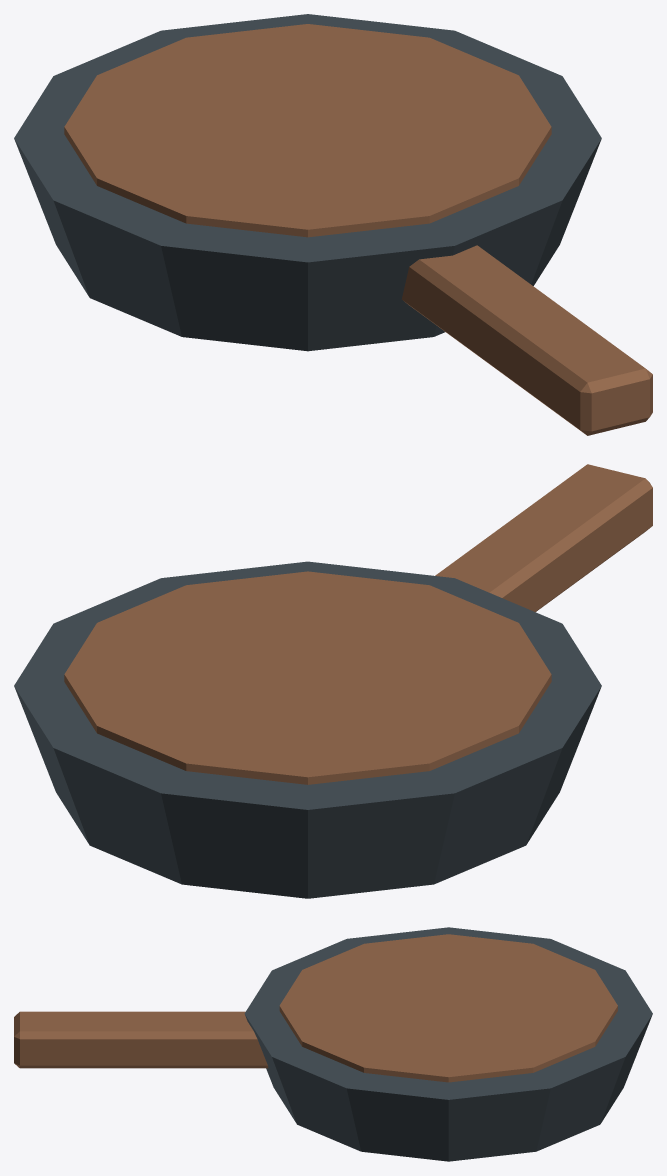
File: SM_CH_Paper_Pan.fbx
3 views of the same model, one above another, from view 1: azimuth 30°, elevation 25°; view 2: azimuth 150°, elevation 25°; view 3: azimuth 270°, elevation 25° (orthographic). The views are drawn at different scales.
Visible parts, largest first — view 1: SM_CH_Paper_Pan; view 2: SM_CH_Paper_Pan; view 3: SM_CH_Paper_Pan.
Part boxes in pixels (x1,y1,x2,y2): SM_CH_Paper_Pan: (14,14,652,435); SM_CH_Paper_Pan: (14,464,652,898); SM_CH_Paper_Pan: (14,927,652,1161).
Size of the model in its own units: 7000 by 10950 by 1550.
